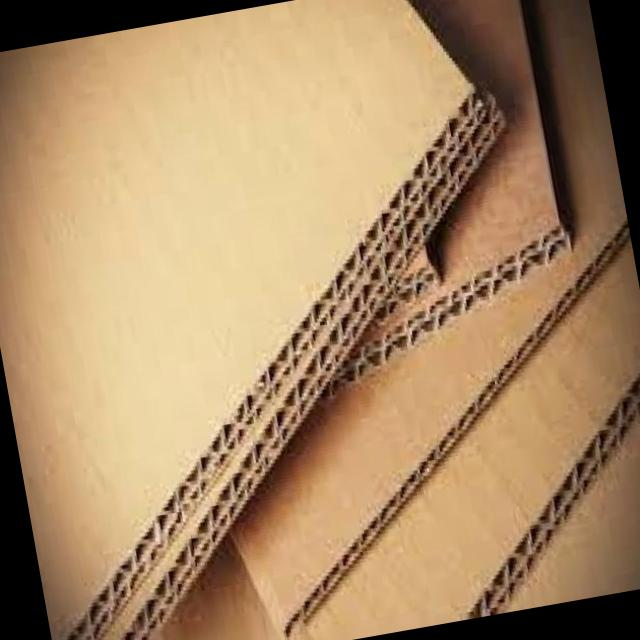cardboard paper: (230, 0, 631, 640), (292, 242, 640, 640), (313, 0, 573, 409)
